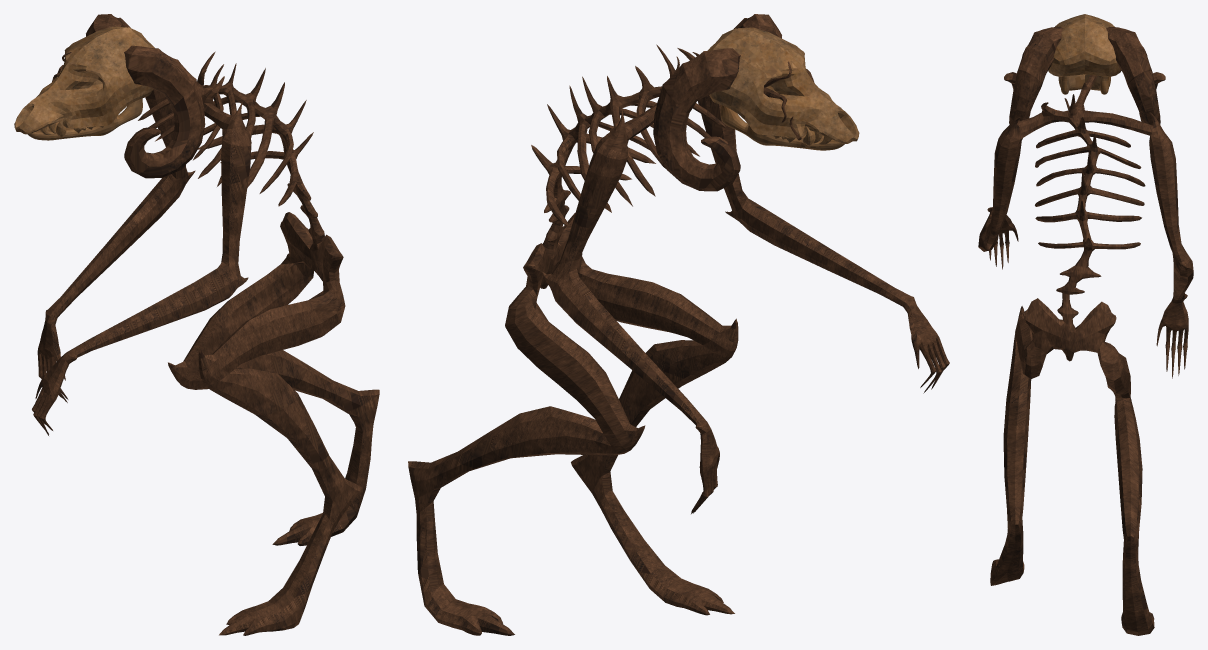
The model's file is enemigotext.obj.
3 views of the same model, side by side, from view 1: azimuth 30°, elevation 25°; view 2: azimuth 150°, elevation 25°; view 3: azimuth 270°, elevation 25° (orthographic). The views are drawn at different scales.
Parts seen in each view (by area): view 1: Cube.020_Cube.004, Cube.024, Cube.021, Cube.022; view 2: Cube.020_Cube.004, Cube.024, Cube.021, Cube.022; view 3: Cube.020_Cube.004, Cube.021, Cube.024, Cube.022.
Boxes of the visible parts, box(x1,y1,x2,y2) form: Cube.020_Cube.004: box(32, 51, 379, 635); Cube.024: box(14, 26, 154, 134); Cube.021: box(57, 14, 205, 178); Cube.022: box(27, 98, 142, 140); Cube.020_Cube.004: box(408, 44, 949, 635); Cube.024: box(707, 27, 859, 143); Cube.021: box(653, 14, 814, 191); Cube.022: box(720, 105, 845, 150); Cube.020_Cube.004: box(978, 75, 1193, 635); Cube.021: box(1004, 27, 1165, 125); Cube.024: box(1048, 14, 1121, 76); Cube.022: box(1058, 74, 1110, 94).
Size of the model in its own units: 2.78 by 3.73 by 1.41.
3 materials, 3 textured.
